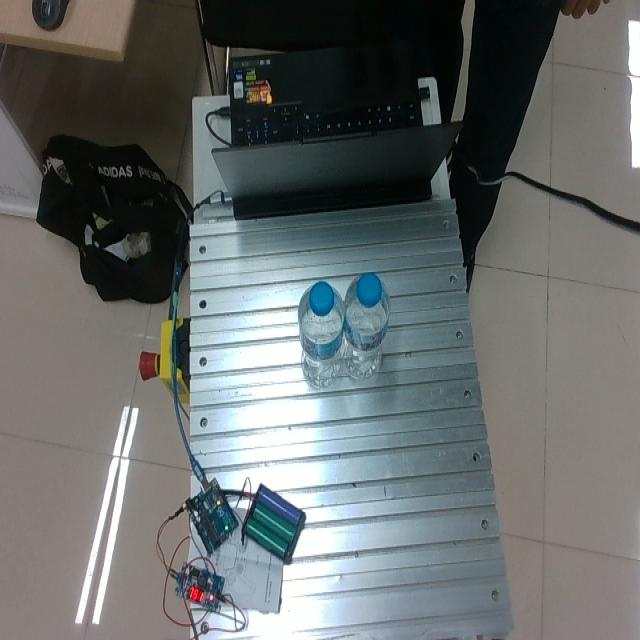lavie: (298, 279, 348, 388), (342, 272, 390, 380)
